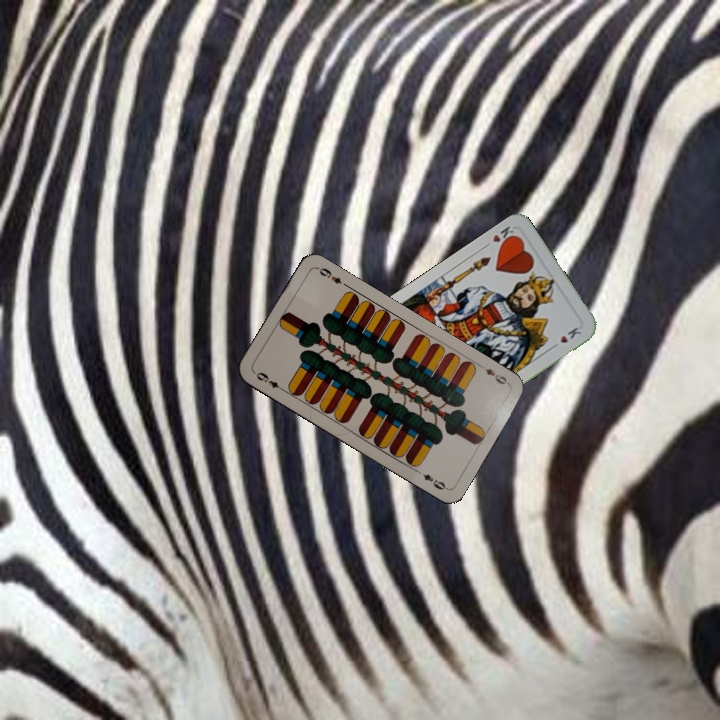E9: (250, 368, 287, 394), (475, 361, 512, 387)
HK: (480, 222, 518, 251)
